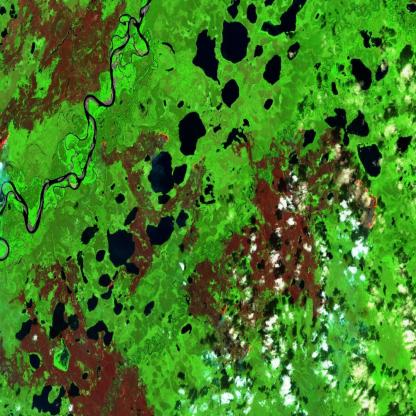fire: (349, 172, 382, 236), (208, 295, 233, 325), (150, 124, 175, 154), (0, 121, 16, 155), (98, 134, 113, 158)
